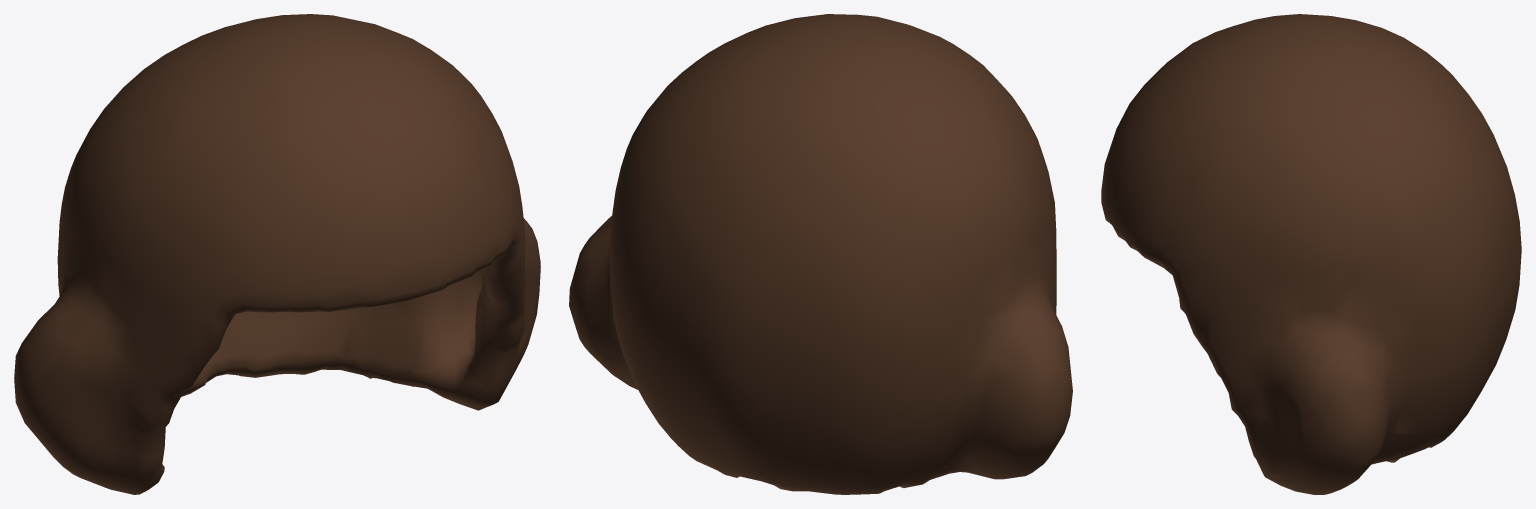
File: hair_bob.glb
3 views of the same model, side by side, from view 1: azimuth 30°, elevation 25°; view 2: azimuth 150°, elevation 25°; view 3: azimuth 270°, elevation 25° (orthographic). The views are drawn at different scales.
Visible parts, largest first — view 1: HairBob.001; view 2: HairBob.001; view 3: HairBob.001.
Part boxes in pixels (left/top/right/bottom): HairBob.001: left=14, top=14, right=540, bottom=494; HairBob.001: left=569, top=14, right=1072, bottom=494; HairBob.001: left=1101, top=14, right=1521, bottom=494.
Size of the model in its own units: 0.3885 by 0.2984 by 0.3016.
